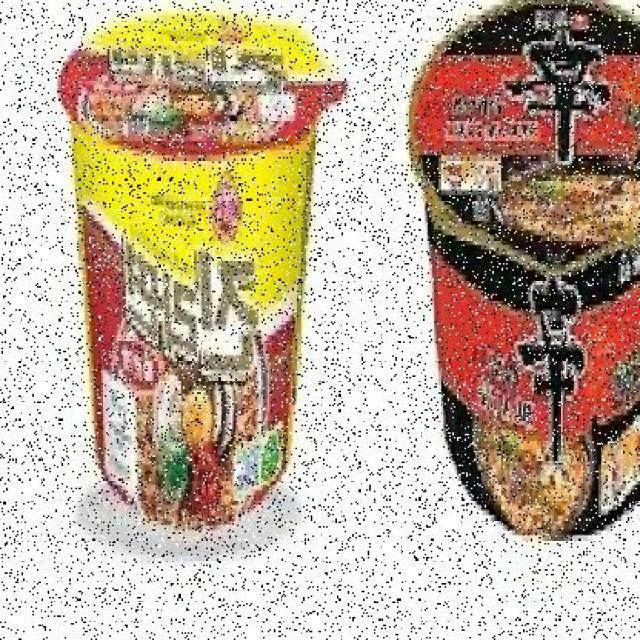Miscellaneous: (58, 4, 342, 518), (409, 0, 640, 540)
